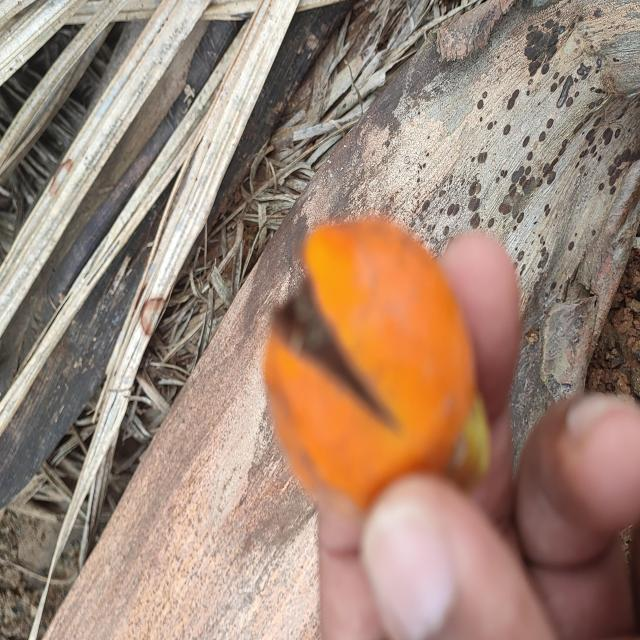damaged: (264, 218, 489, 508)
